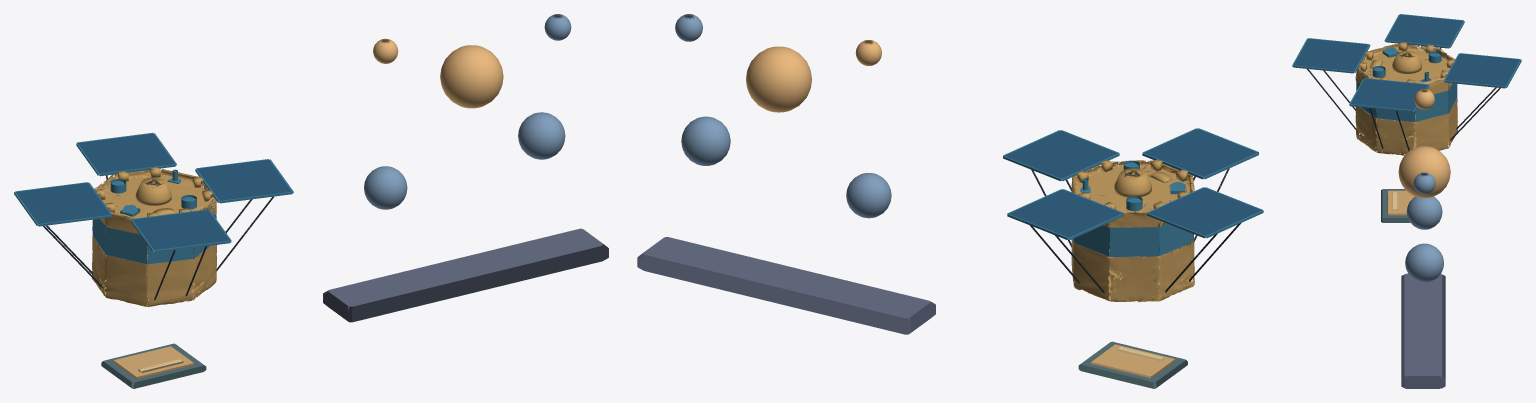
Rendered from kepler-campo.obj.
The picture shows the model from 3 angles, left to right: view 1: azimuth 30°, elevation 25°; view 2: azimuth 150°, elevation 25°; view 3: azimuth 270°, elevation 25°; orthographic projection. The views are drawn at different scales.
Visible parts, largest first — view 1: kepler-campo; view 2: kepler-campo; view 3: kepler-campo.
Boxes of the visible parts, left/top/right/bottom form: kepler-campo: left=14, top=14, right=608, bottom=388; kepler-campo: left=637, top=14, right=1263, bottom=388; kepler-campo: left=1292, top=14, right=1521, bottom=388.
Size of the model in its own units: 1.73 by 0.7559 by 0.7293.
